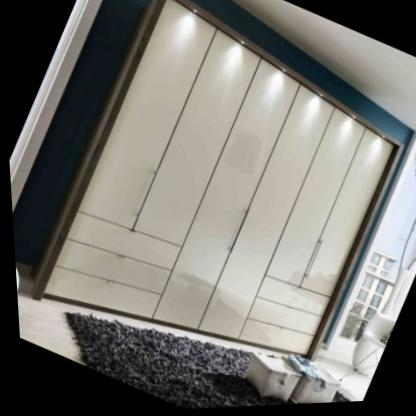Closet: (28, 0, 399, 361)
